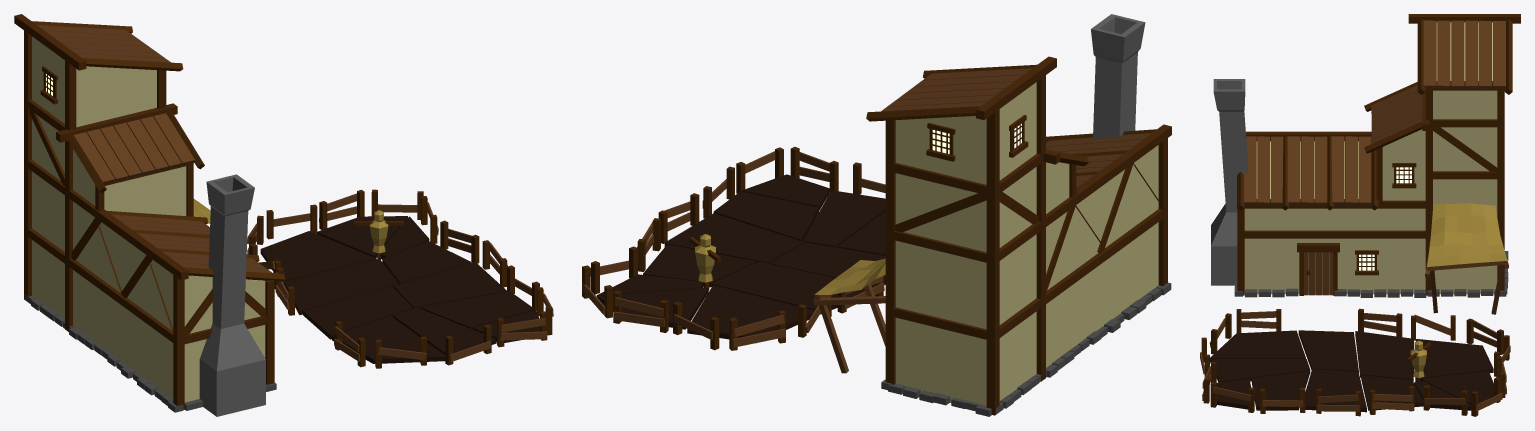
The model's file is Farm.fbx.
3 views of the same model, side by side, from view 1: azimuth 30°, elevation 25°; view 2: azimuth 150°, elevation 25°; view 3: azimuth 270°, elevation 25° (orthographic). The views are drawn at different scales.
Visible parts, largest first — view 1: Cube, Cube.009, Cube.111, Cube.116, Cube.115, Cube.112, Cube.113, Cube.244, Cube.025, Cube.114, Cube.117, Cube.019 (+28 smaller); view 2: Cube, Cube.009, Cube.019, Cube.115, Cube.111, Cube.116, Cube.244, Cube.114, Cube.018, Cube.025, Cube.112, Cube.117 (+29 smaller); view 3: Cube, Cube.009, Cube.014, Cube.111, Cube.113, Cube.112, Cube.116, Cube.114, Cube.115, Cube.037, Cube.244, Cube.110 (+48 smaller).
Part boxes in pixels (x1,y1,x2,y2): Cube: (32,36,265,402); Cube.009: (199,174,265,416); Cube.111: (284,258,398,315); Cube.116: (260,231,376,281); Cube.115: (394,261,506,308); Cube.112: (303,286,412,339); Cube.113: (332,316,445,363); Cube.244: (419,291,534,329); Cube.025: (65,60,76,331); Cube.114: (393,307,496,354); Cube.117: (382,241,470,284); Cube.019: (24,30,31,299); Cube: (895,82,1158,405); Cube.009: (1091,14,1145,139); Cube.019: (986,109,999,415); Cube.115: (664,213,804,263); Cube.111: (711,261,873,314); Cube.116: (687,285,814,343); Cube.244: (713,191,818,241); Cube.114: (803,190,885,247); Cube.018: (885,120,895,384); Cube.025: (1036,75,1045,381); Cube.112: (768,242,885,286); Cube.117: (643,244,755,287); Cube: (1244,22,1497,294); Cube.009: (1211,79,1247,285); Cube.014: (1427,203,1507,266); Cube.111: (1355,331,1413,382); Cube.113: (1210,330,1305,361); Cube.112: (1298,330,1358,372); Cube.116: (1415,339,1493,381); Cube.114: (1210,359,1310,382); Cube.115: (1305,369,1366,412); Cube.037: (1244,230,1425,238); Cube.244: (1251,371,1309,410); Cube.110: (1420,371,1493,404).
Bounding box in the file's own units: 1763 × 1190 × 1430.
